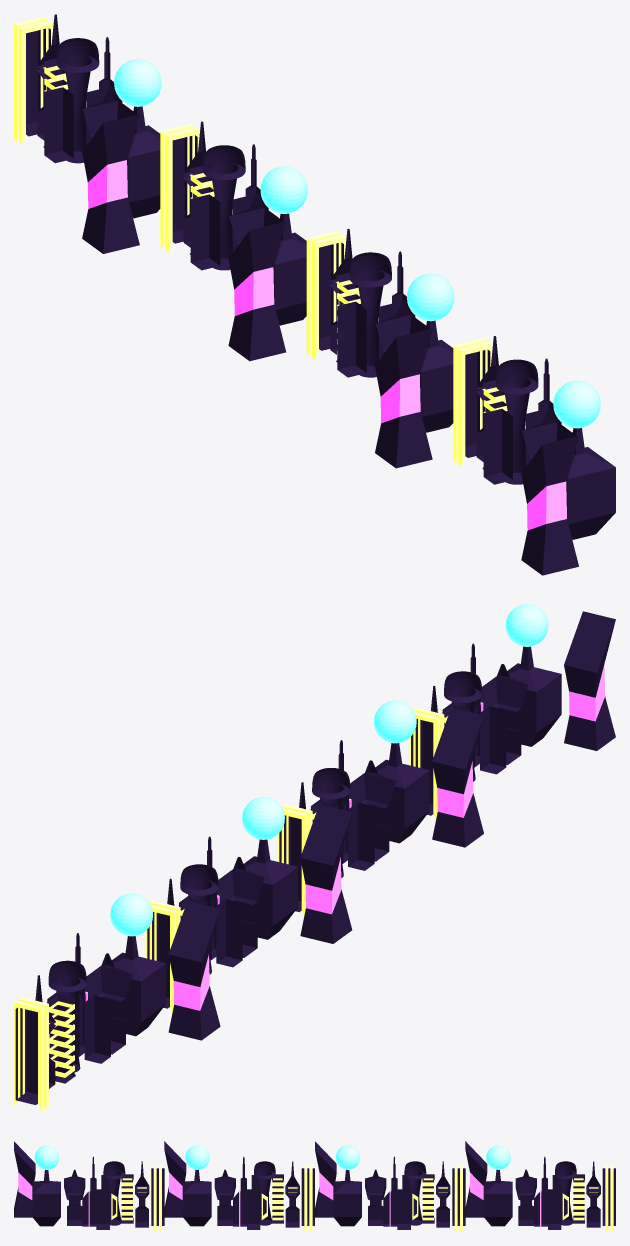
File: CityScapeLayer4.fbx
3 renders of one model, top to bottom at view 1: azimuth 30°, elevation 25°; view 2: azimuth 150°, elevation 25°; view 3: azimuth 270°, elevation 25°, orthographic. The views are drawn at different scales.
Visible parts, largest first — view 1: Cube; view 2: Cube; view 3: Cube.
Boxes of the visible parts, x1,y1,x2,y2 form: Cube: (14, 14, 615, 575); Cube: (14, 604, 615, 1112); Cube: (14, 1141, 615, 1231).
Size of the model in its own units: 1915 by 2891 by 19577.
